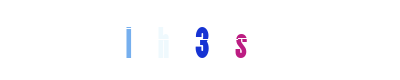3: (162, 0, 242, 80)
H: (160, 0, 240, 80)
L: (112, 0, 192, 80)
S: (201, 0, 281, 80)
